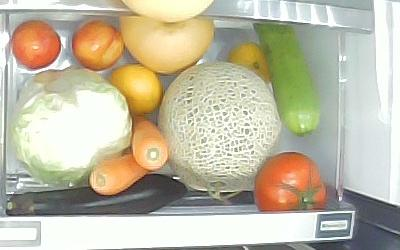cabbage: (12, 65, 133, 188)
carrot: (89, 155, 148, 195), (131, 117, 168, 170)
melon: (158, 59, 281, 196)
pear: (120, 13, 214, 75)
prune: (71, 18, 124, 72), (10, 19, 61, 70)
tangerine: (109, 64, 164, 117), (229, 41, 270, 81)
tomato: (255, 151, 326, 210)
zucchini: (253, 22, 322, 139)
